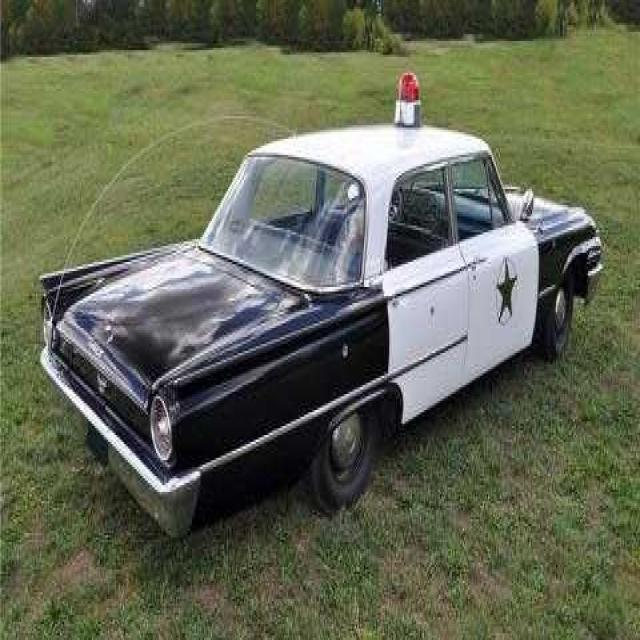firetruck: (39, 62, 603, 550)
